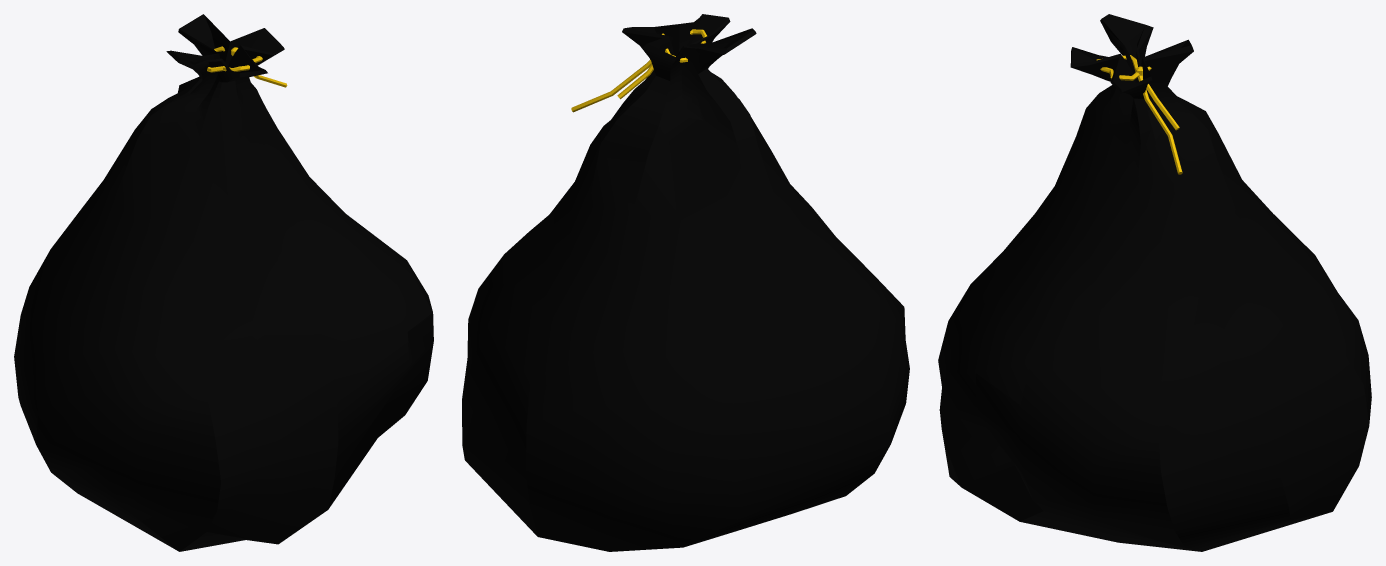
Rendered from BinBag_02.glb.
3 renders of one model, left to right at view 1: azimuth 30°, elevation 25°; view 2: azimuth 150°, elevation 25°; view 3: azimuth 270°, elevation 25°, orthographic. The views are drawn at different scales.
Parts seen in each view (by area): view 1: Mesh_BinBag_02; view 2: Mesh_BinBag_02; view 3: Mesh_BinBag_02.
Boxes of the visible parts, bbox=[...] form: Mesh_BinBag_02: bbox=[14, 14, 433, 551]; Mesh_BinBag_02: bbox=[462, 14, 909, 551]; Mesh_BinBag_02: bbox=[938, 14, 1371, 551].
Bounding box in the file's own units: 0.4566 × 0.5257 × 0.4271.
1 material, 1 textured.
